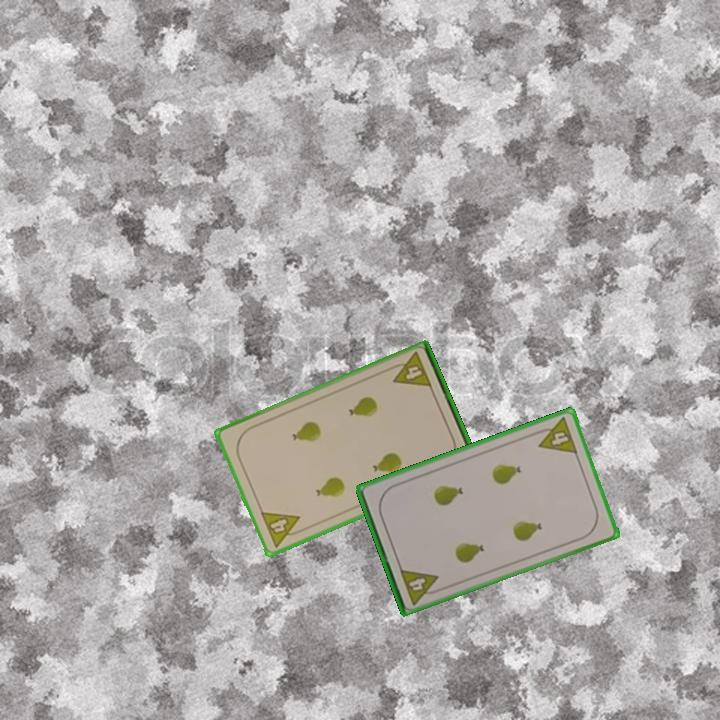4p: (385, 348, 435, 391), (257, 508, 308, 550), (531, 414, 580, 457), (396, 565, 445, 608)
